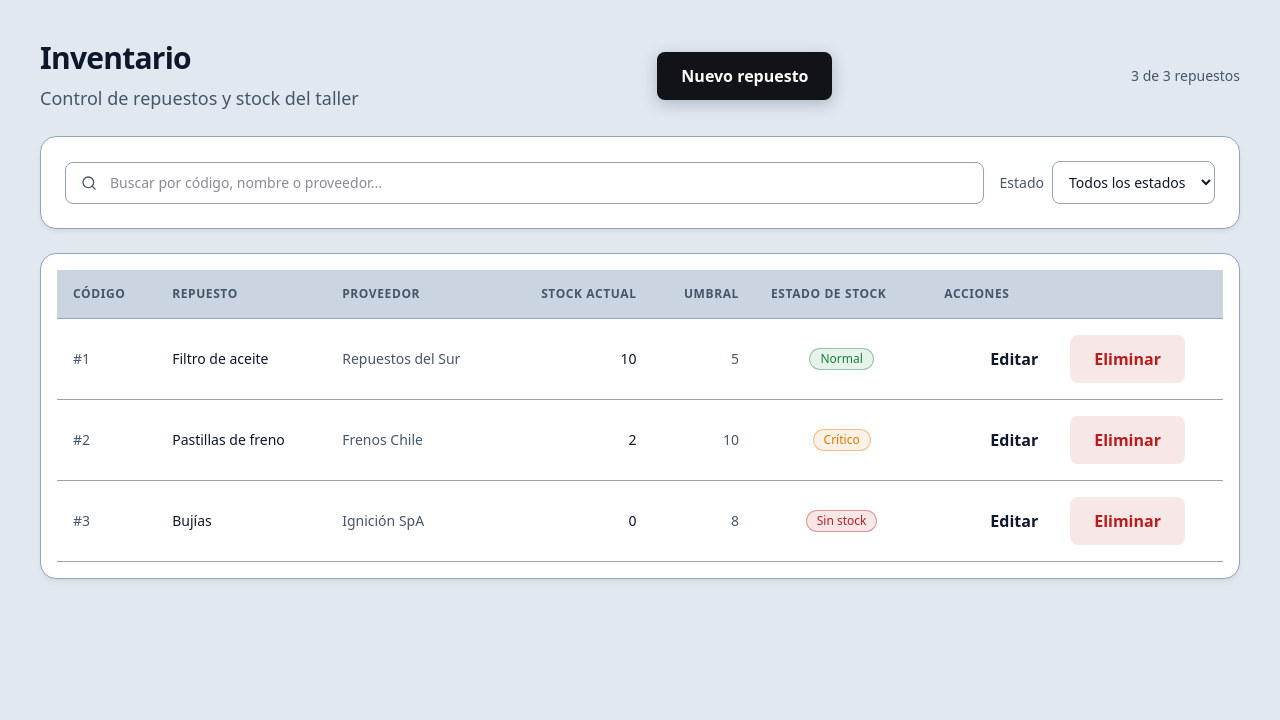
Scenario: AdminInventoryPage: filtros y estado de stock › explica que no hay coincidencias cuando los filtros no devuelven nada
Check: the text "Filtro de aceite" is shown, box top-left (156, 319), bottom-right (326, 400)
In the search field named "Buscar repuestos": coordinates (524, 182) top-left (65, 162), bottom-right (984, 204), type "inexistente"
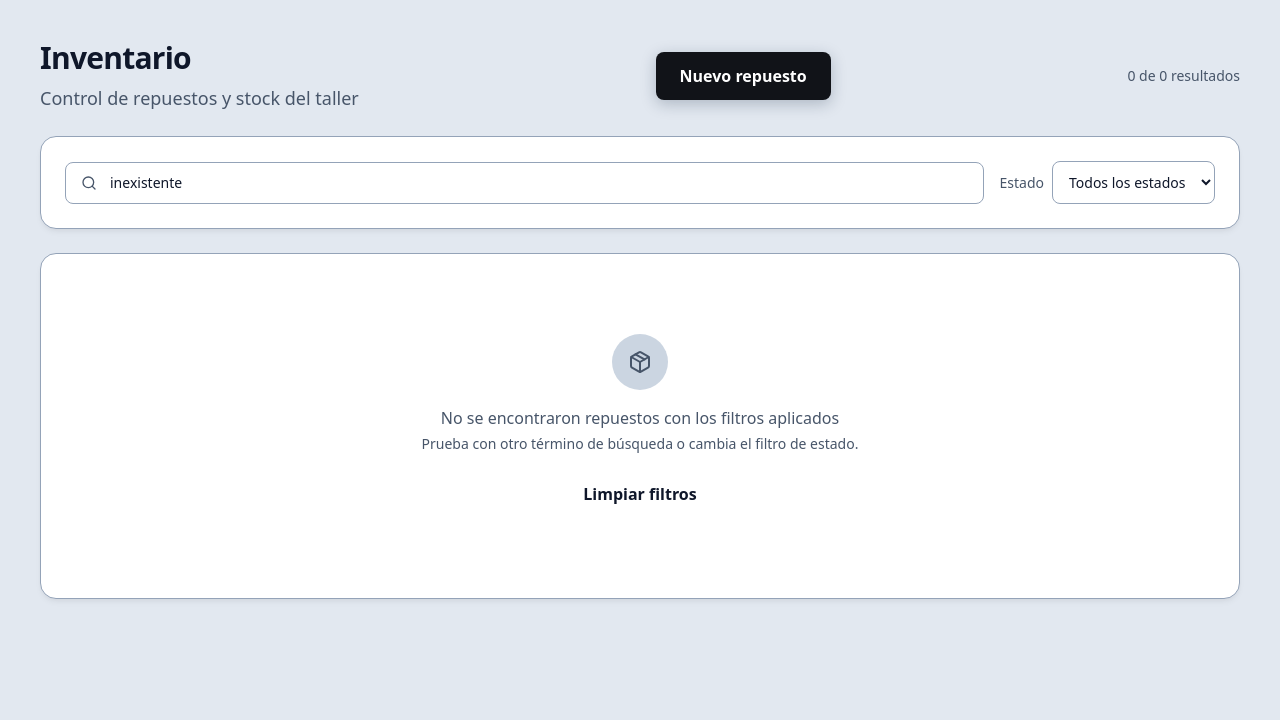
Check: the text "No se encontraron repuestos con los filtros aplicados" is shown, box top-left (441, 406), bottom-right (839, 430)
